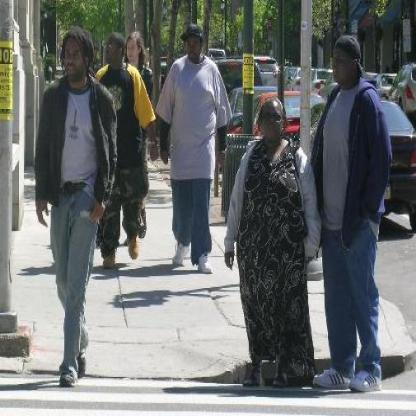person: (308, 36, 393, 400), (228, 91, 318, 383), (33, 27, 105, 383), (157, 21, 226, 280)
